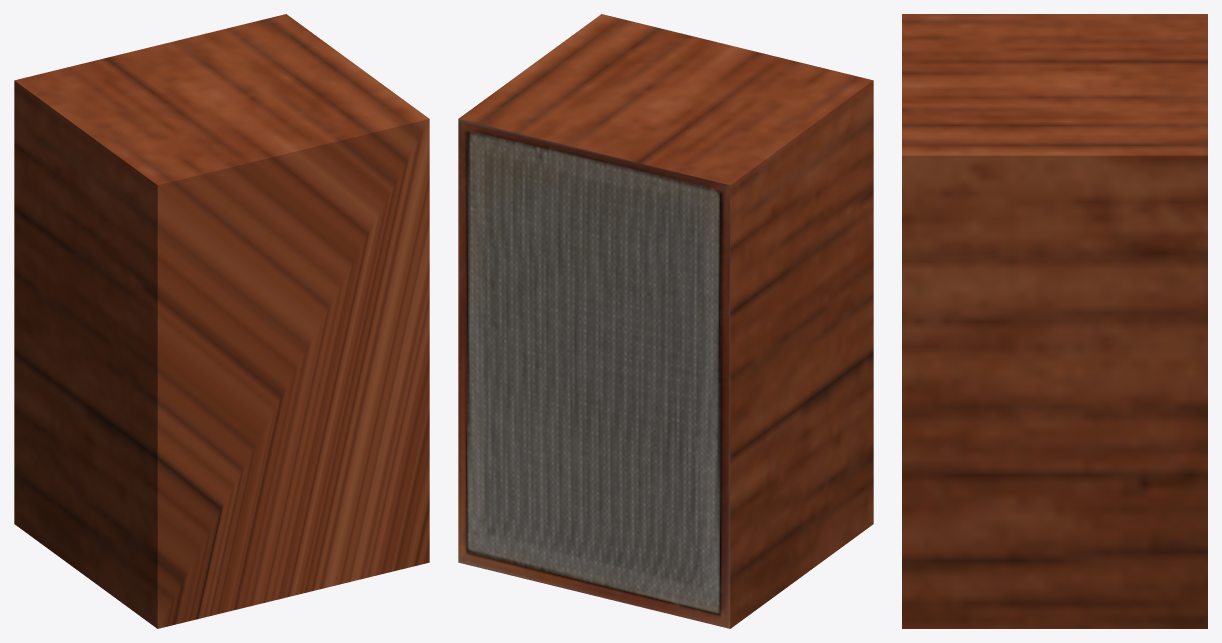
File: parlante.fbx
3 renders of one model, left to right at view 1: azimuth 30°, elevation 25°; view 2: azimuth 150°, elevation 25°; view 3: azimuth 270°, elevation 25°, orthographic. The views are drawn at different scales.
Visible parts, largest first — view 1: parlante; view 2: parlante; view 3: parlante.
Boxes of the visible parts, bbox=[...] form: parlante: bbox=[14, 14, 429, 628]; parlante: bbox=[458, 14, 873, 628]; parlante: bbox=[902, 14, 1207, 628].
Bounding box in the file's own units: 35.91 × 55.97 × 32.77.
